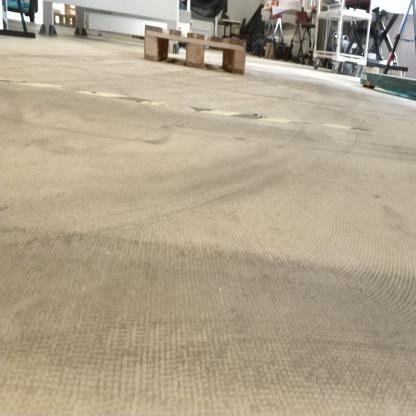BoxFace: (139, 19, 248, 80)
